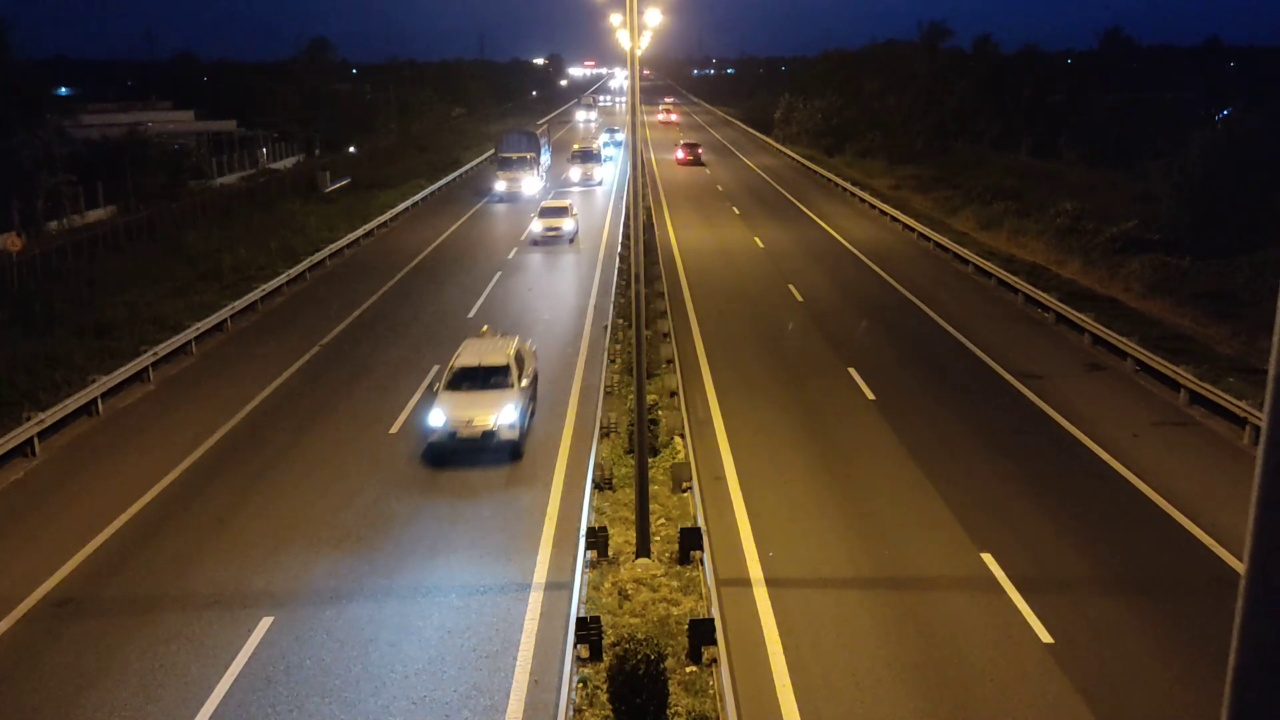car: (418, 329, 539, 466), (529, 198, 579, 245), (673, 139, 706, 166)
